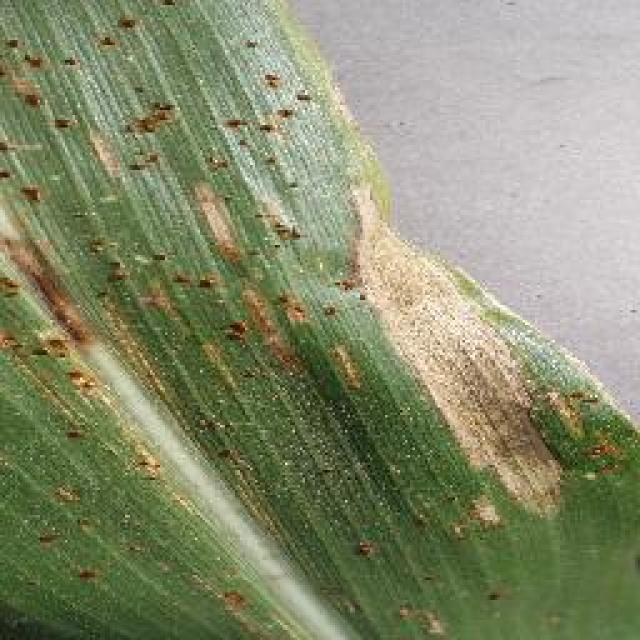Corn___Cercospora_leaf_spot Gray_leaf_spot: (5, 198, 637, 640)
